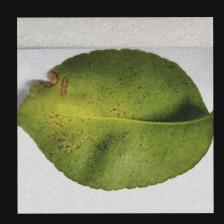canker: (31, 62, 92, 163)
